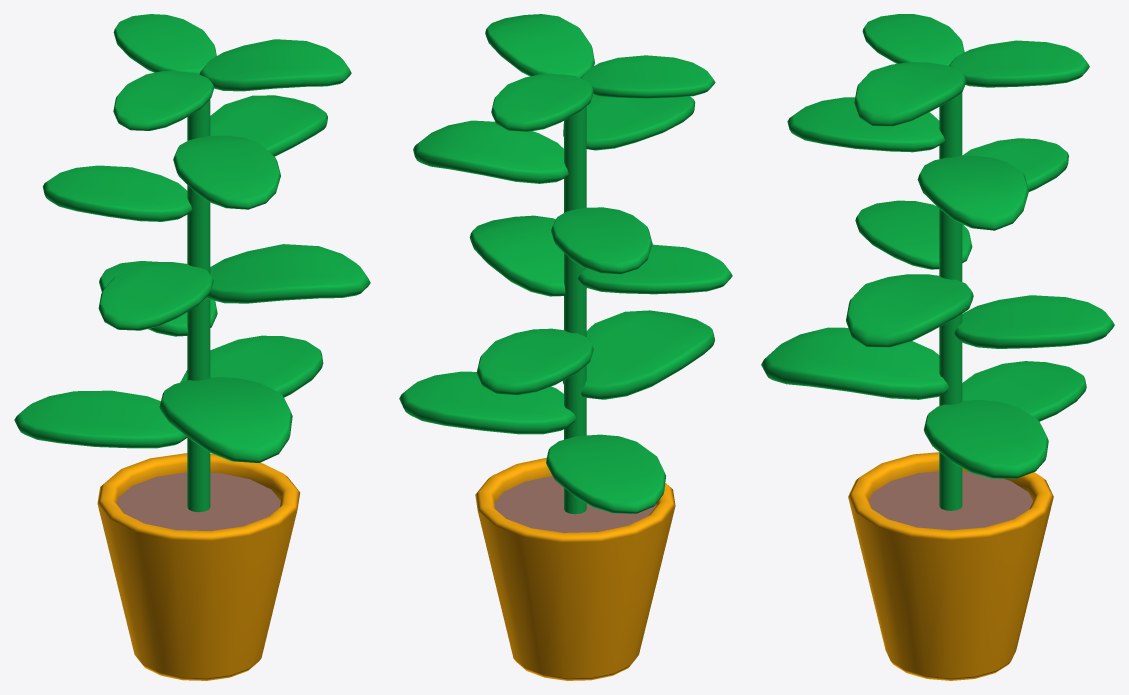
Rendered from Store_6_Plant_6.glb.
3 renders of one model, left to right at view 1: azimuth 30°, elevation 25°; view 2: azimuth 150°, elevation 25°; view 3: azimuth 270°, elevation 25°, orthographic.
Parts seen in each view (by area): view 1: Store_6_Plant_6; view 2: Store_6_Plant_6; view 3: Store_6_Plant_6.
Boxes of the visible parts, bbox=[...] form: Store_6_Plant_6: bbox=[14, 14, 370, 680]; Store_6_Plant_6: bbox=[399, 14, 732, 680]; Store_6_Plant_6: bbox=[761, 14, 1114, 680].
Bounding box in the file's own units: 0.6581 × 1.37 × 0.7282.
Materials: 1 (1 with a texture image).
